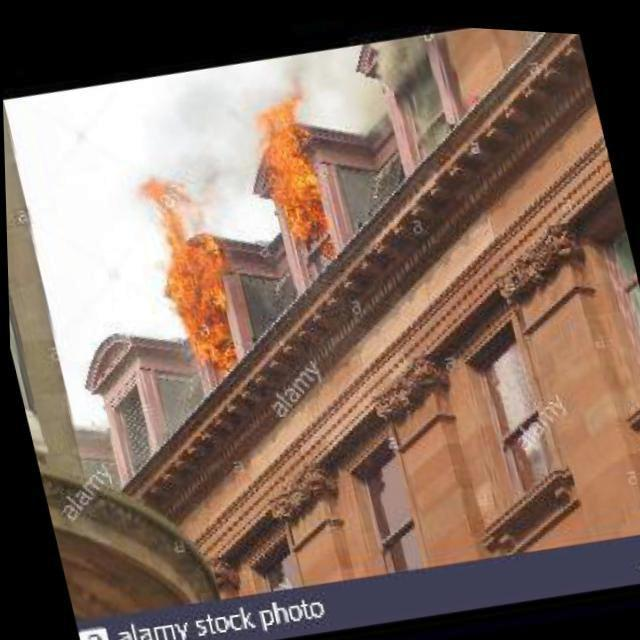fire: (107, 127, 266, 389), (231, 90, 353, 258)
